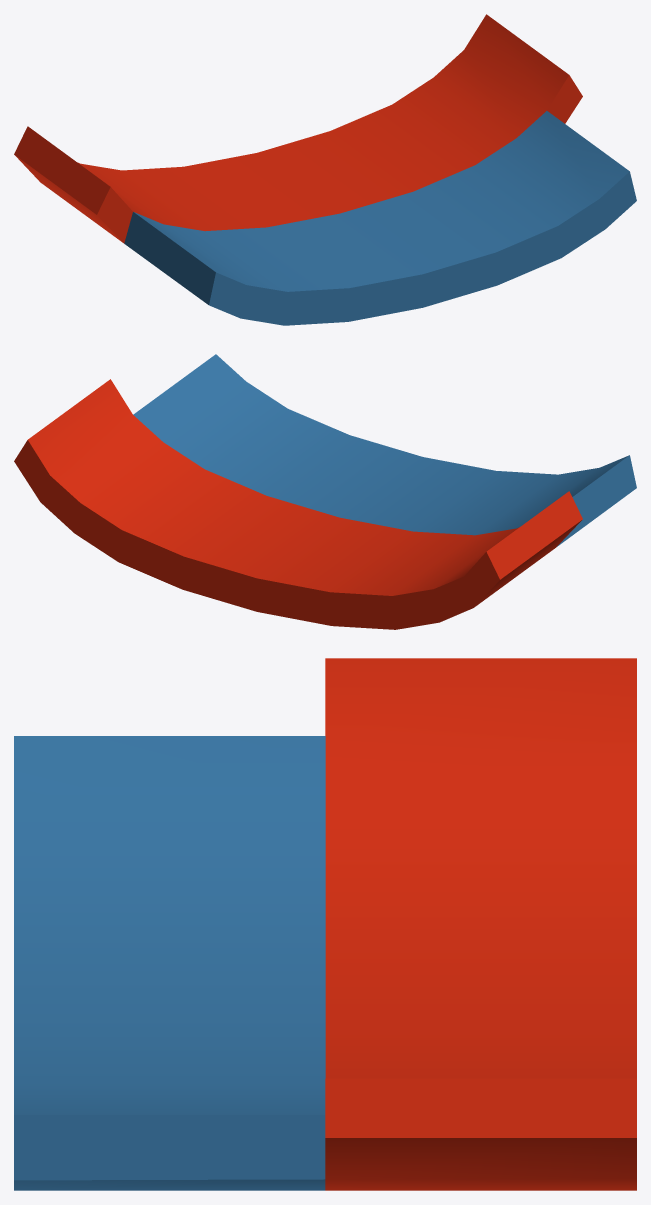
File: Ground6.fbx
The picture shows the model from 3 angles, top to bottom: view 1: azimuth 30°, elevation 25°; view 2: azimuth 150°, elevation 25°; view 3: azimuth 270°, elevation 25°; orthographic projection. The views are drawn at different scales.
Visible parts, largest first — view 1: Cylinder.022; view 2: Cylinder.022; view 3: Cylinder.022.
Boxes of the visible parts, x1=… form: Cylinder.022: x1=14, y1=14, x2=636, y2=325; Cylinder.022: x1=14, y1=354, x2=636, y2=629; Cylinder.022: x1=14, y1=658, x2=636, y2=1190.
Size of the model in its own units: 12.79 by 7.56 by 2.92.
